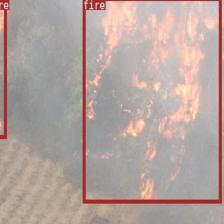fire: (82, 0, 221, 203), (0, 0, 6, 138)
